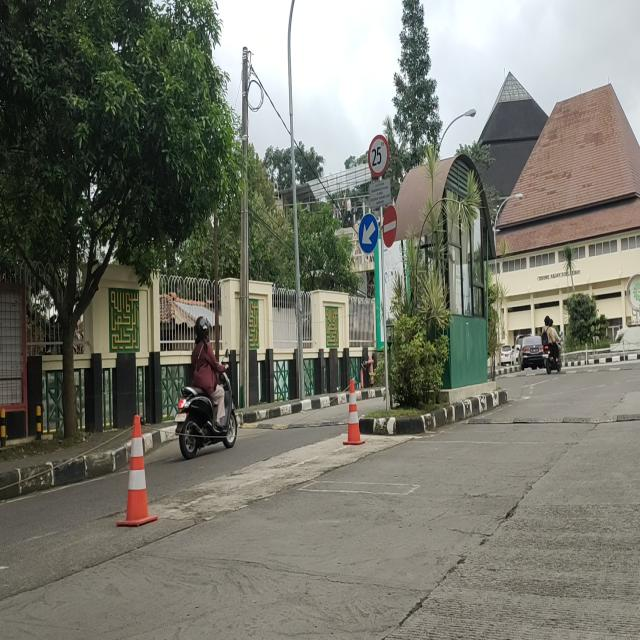helmet: (194, 316, 214, 341)
